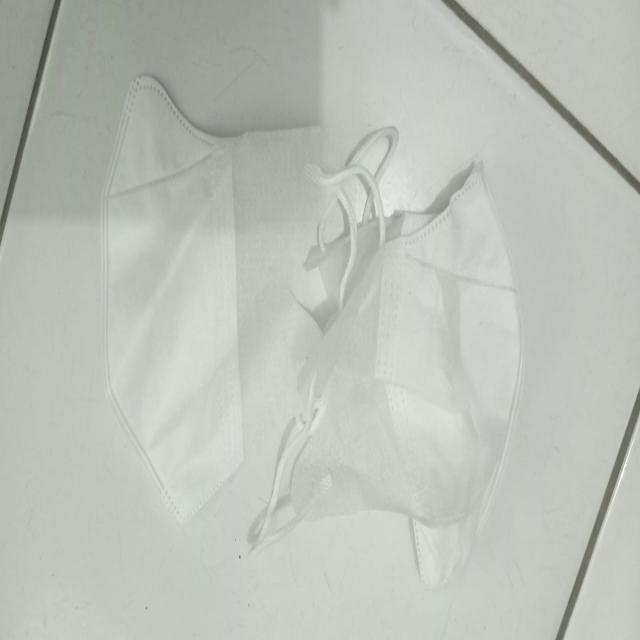masker: (91, 71, 327, 501), (368, 123, 540, 564)
